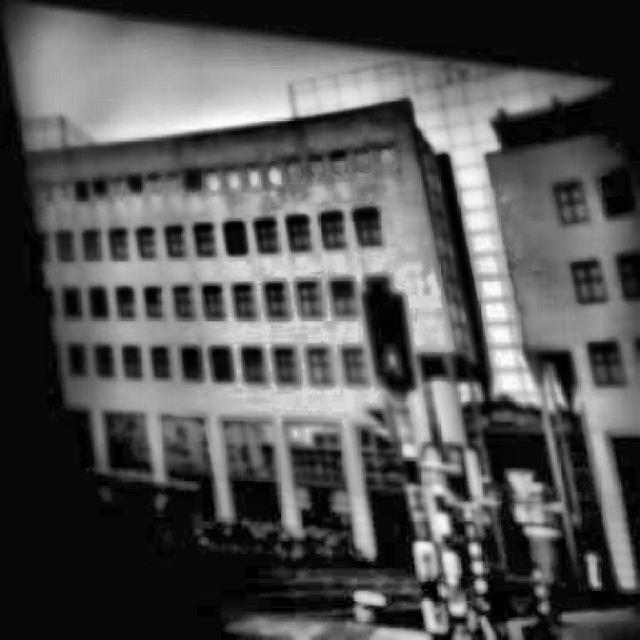semaforo pedestre: (285, 236, 464, 418)
